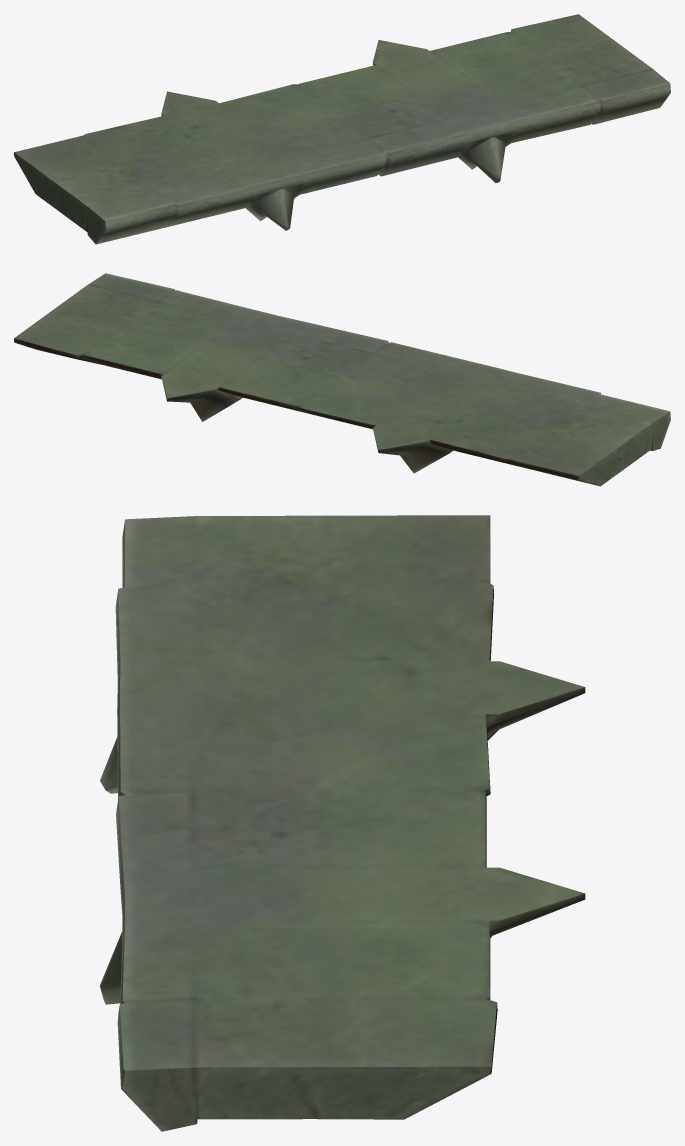
The model's file is Ruins_Trim_Top_Deco_8M_A.fbx.
3 renders of one model, top to bottom at view 1: azimuth 30°, elevation 25°; view 2: azimuth 150°, elevation 25°; view 3: azimuth 270°, elevation 25°, orthographic. The views are drawn at different scales.
Parts seen in each view (by area): view 1: Ruins_Trim_Top_Deco_8M_A; view 2: Ruins_Trim_Top_Deco_8M_A; view 3: Ruins_Trim_Top_Deco_8M_A.
Part boxes in pixels (left/top/right/bottom): Ruins_Trim_Top_Deco_8M_A: left=14, top=14, right=670, bottom=244; Ruins_Trim_Top_Deco_8M_A: left=14, top=273, right=670, bottom=486; Ruins_Trim_Top_Deco_8M_A: left=100, top=515, right=585, bottom=1131.
Bounding box in the file's own units: 799 × 83.1 × 297.
